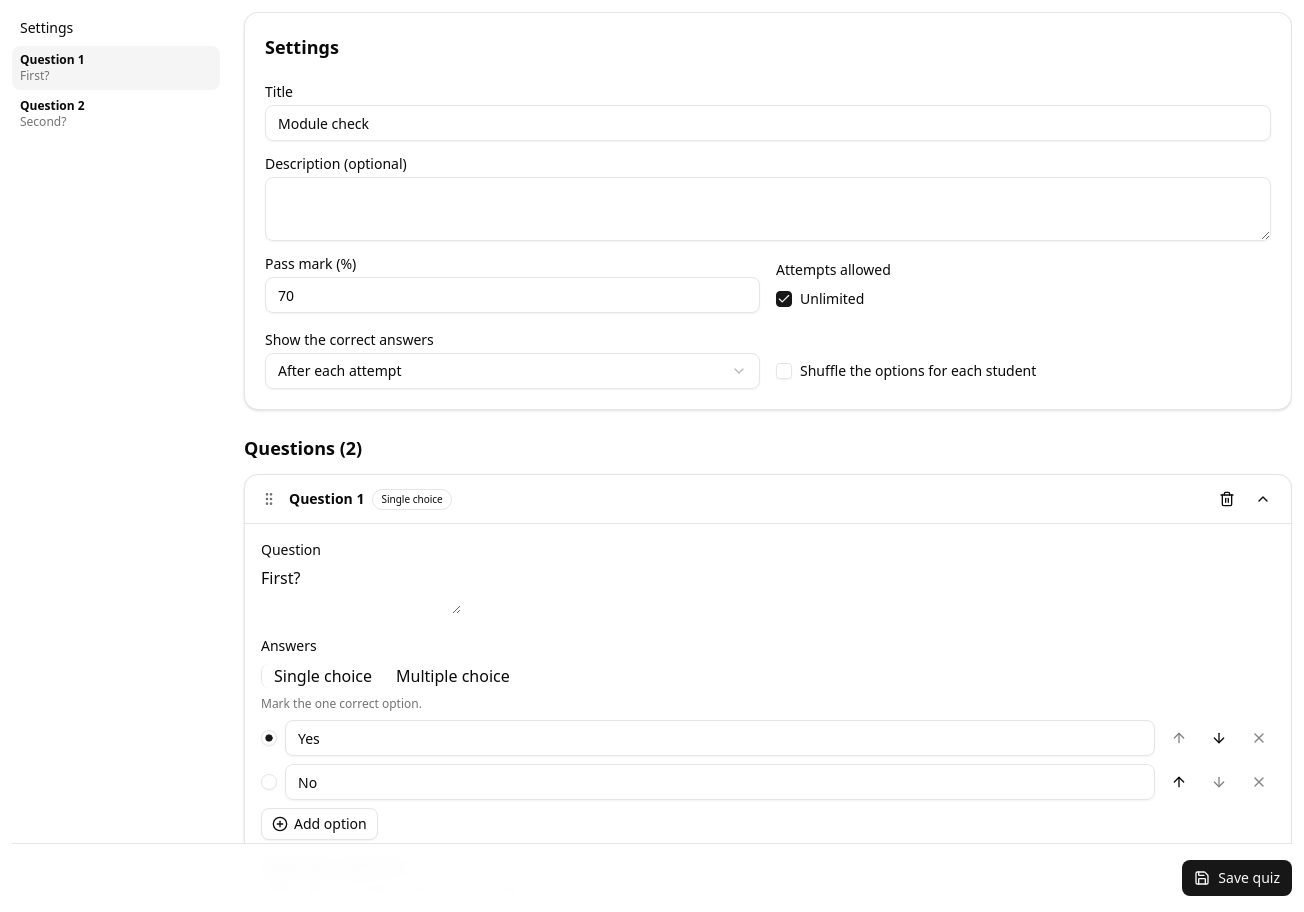
Test: QuizBuilder › switches to multiple choice without asking
Click the radio button labelled "Multiple choice".
click(453, 676)  # box [384,664,522,688]
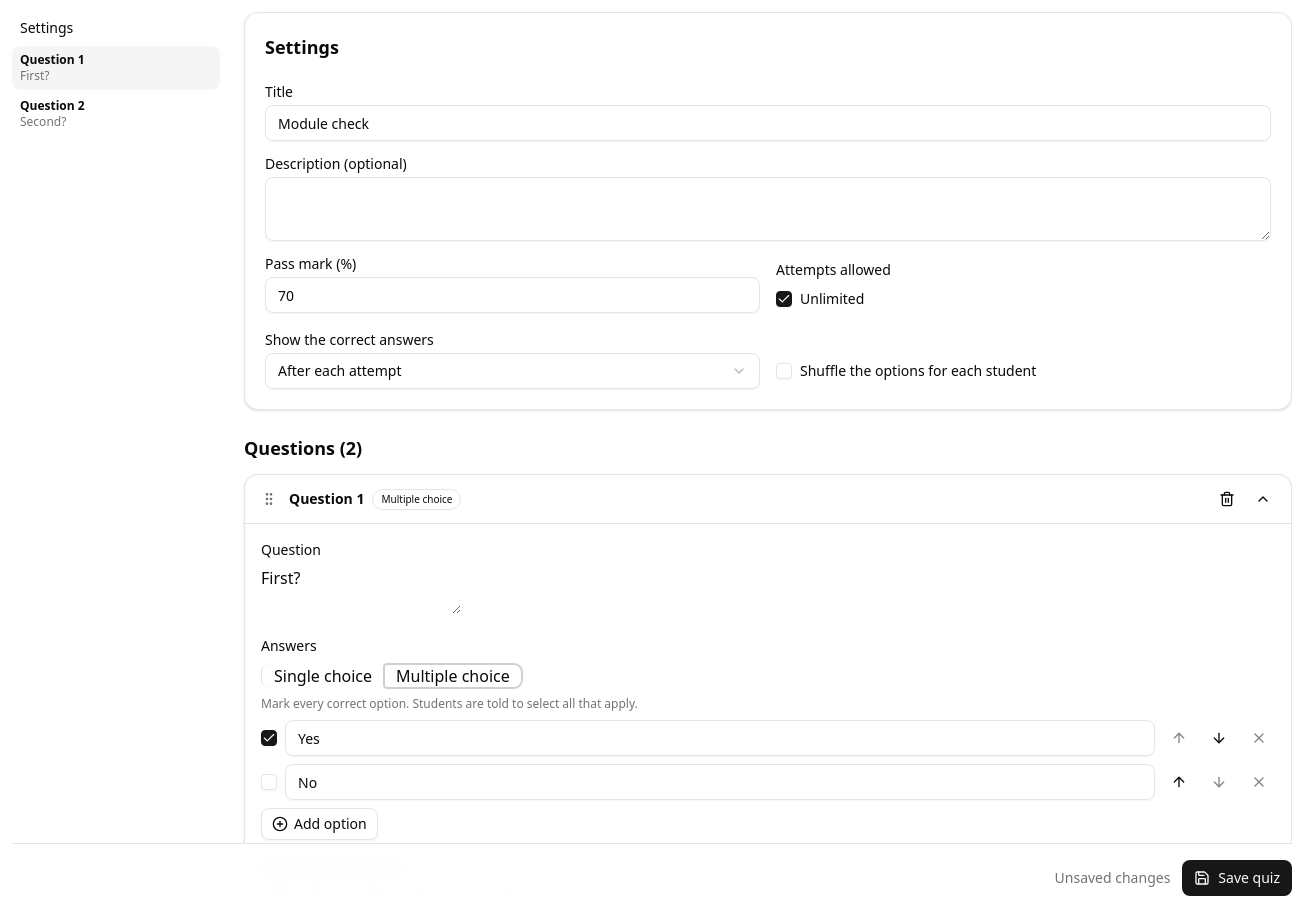
Expected: the checkbox named "Option 1 is correct" is checked, [261,730,277,746]
